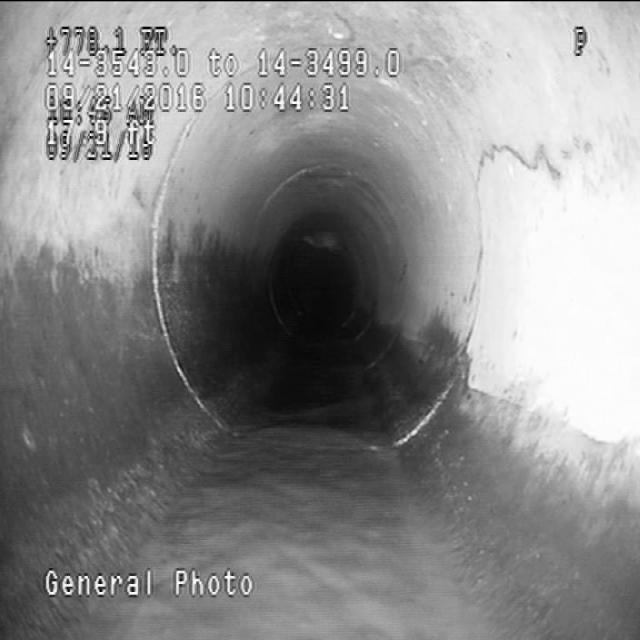Crack: (454, 80, 616, 200)
